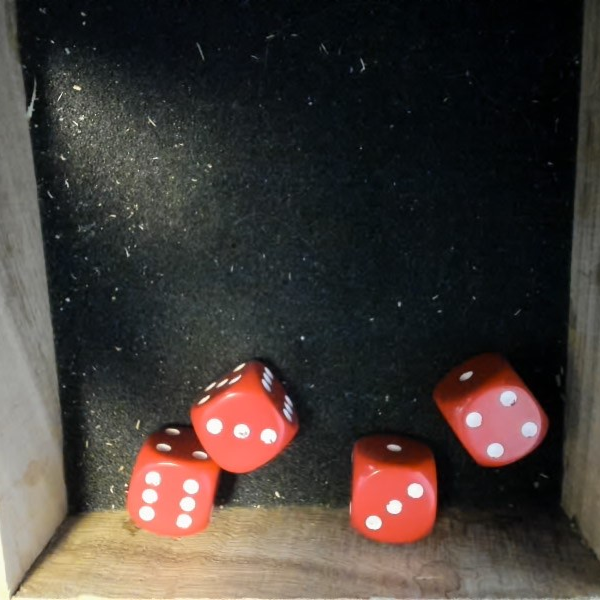red_die_pip3: (175, 352, 313, 489), (350, 443, 439, 539)
red_die_pip4: (426, 345, 560, 484)
red_die_pip6: (120, 418, 224, 547)
